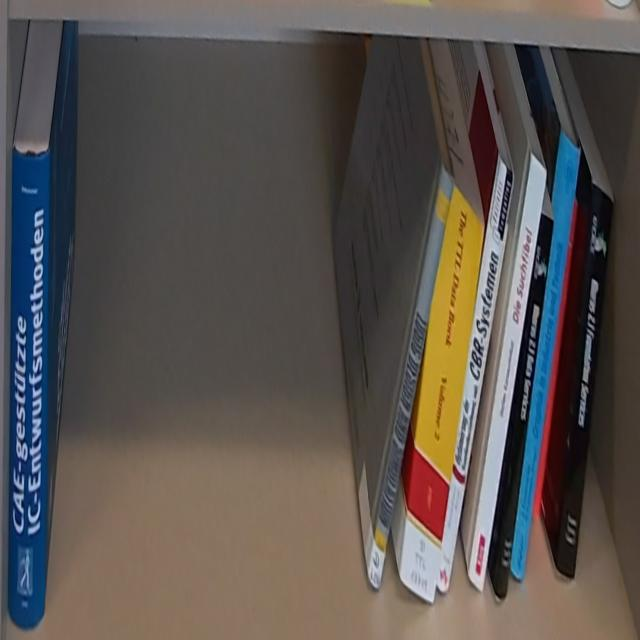Book Spine: (368, 164, 456, 590), (399, 184, 485, 605), (467, 154, 549, 595), (437, 156, 515, 595), (511, 132, 582, 583), (556, 184, 615, 579), (495, 214, 555, 602), (8, 145, 50, 629)
